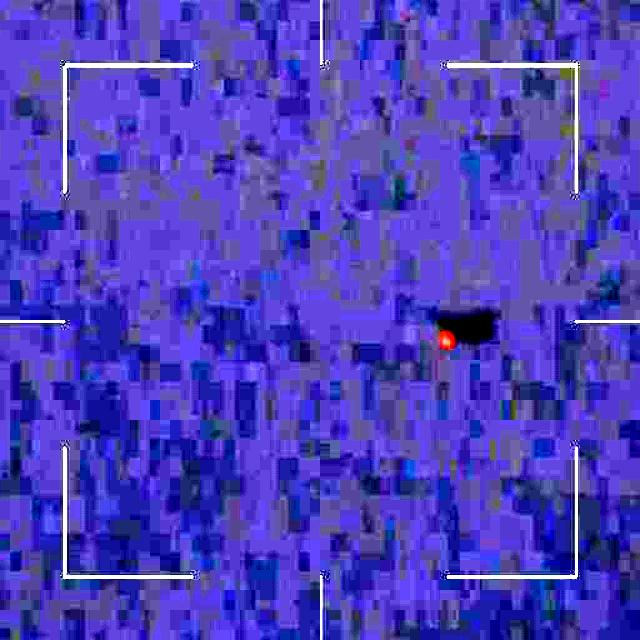bird: (438, 320, 468, 362)
